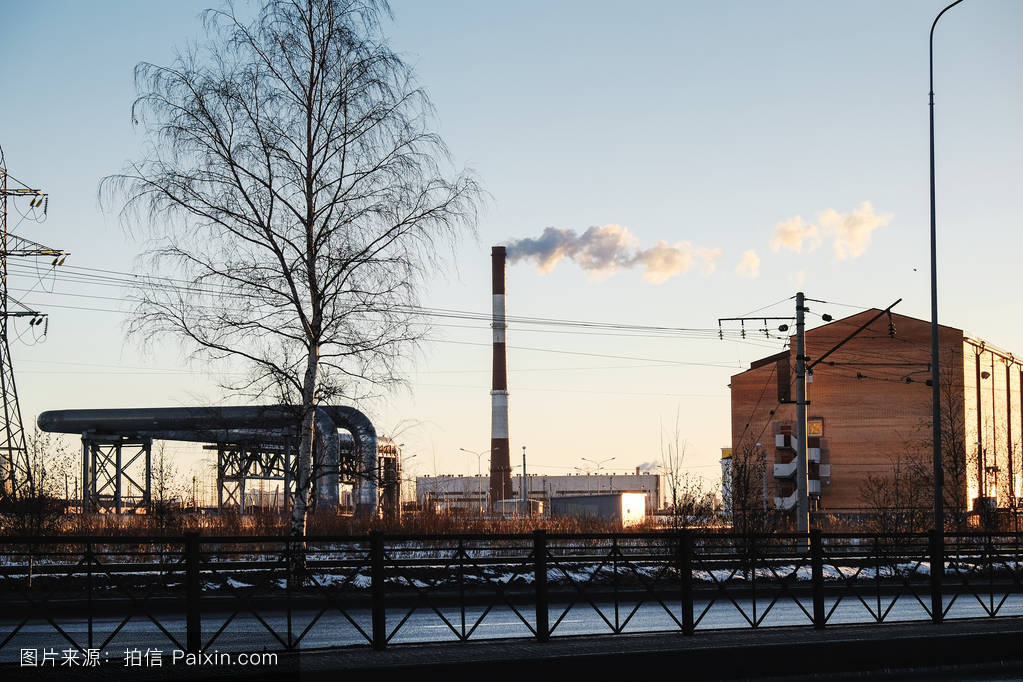dust: (456, 209, 726, 307)
